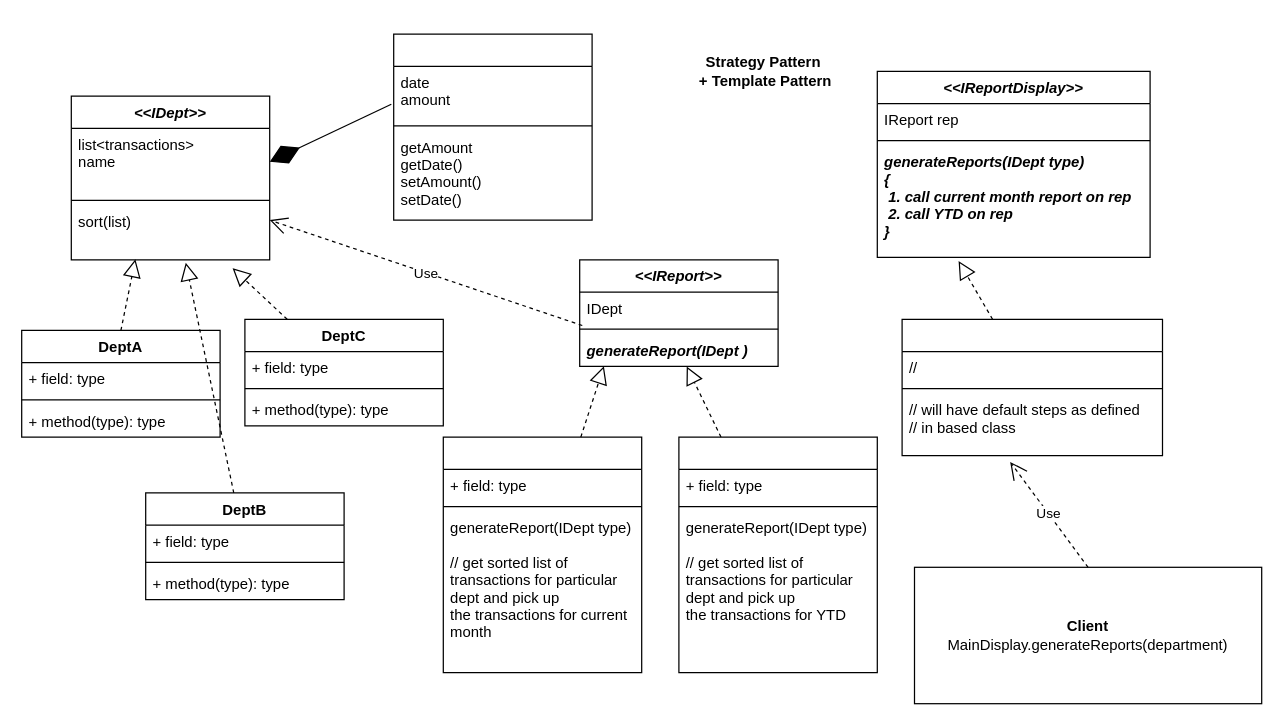
This 1283x725 diagram has some shape labels left out. The box of each missing label's shape, as (x1, y1, x2, y2) in pixels:
MainDisplay: (901, 318, 1162, 456)
MonthlyReport: (442, 436, 642, 673)
Transaction: (392, 33, 592, 220)
YTDReport: (678, 436, 877, 673)
